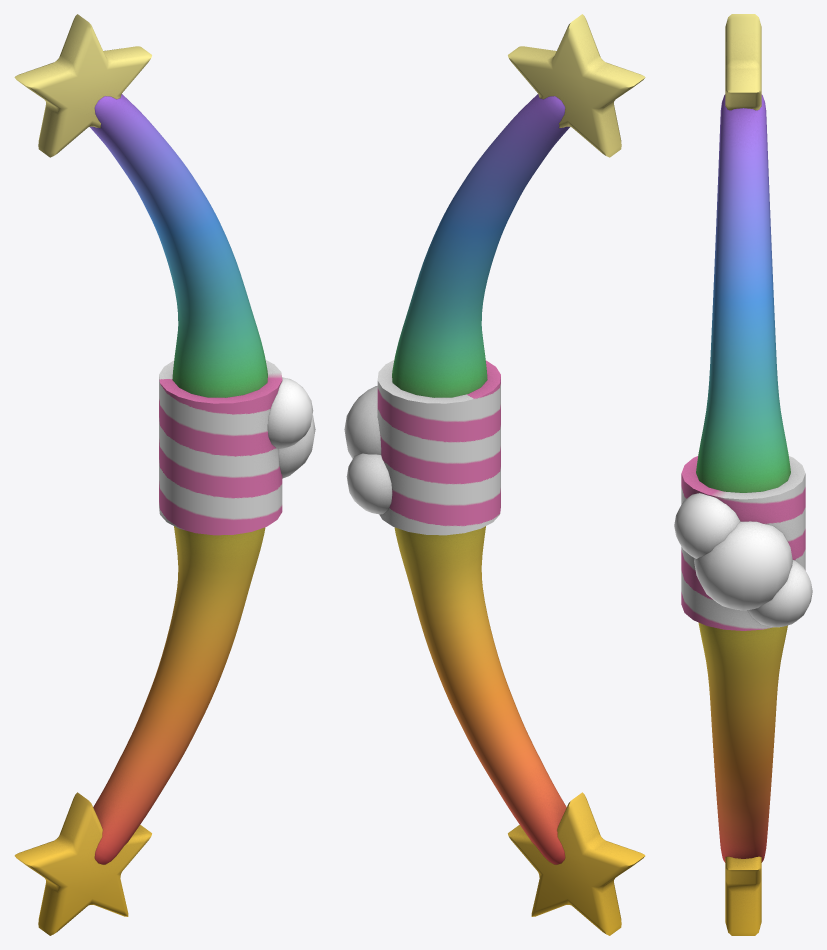
Rendered from Rainbow Bow.fbx.
3 renders of one model, left to right at view 1: azimuth 30°, elevation 25°; view 2: azimuth 150°, elevation 25°; view 3: azimuth 270°, elevation 25°, orthographic.
Visible parts, largest first — view 1: Rainbow Bow; view 2: Rainbow Bow; view 3: Rainbow Bow.
Part boxes in pixels (x1,y1,x2,y2): Rainbow Bow: (14,14,315,935); Rainbow Bow: (344,14,645,935); Rainbow Bow: (674,14,812,935).
Size of the model in its own units: 5.05 by 15.1 by 2.1.
1 material, 1 textured.
